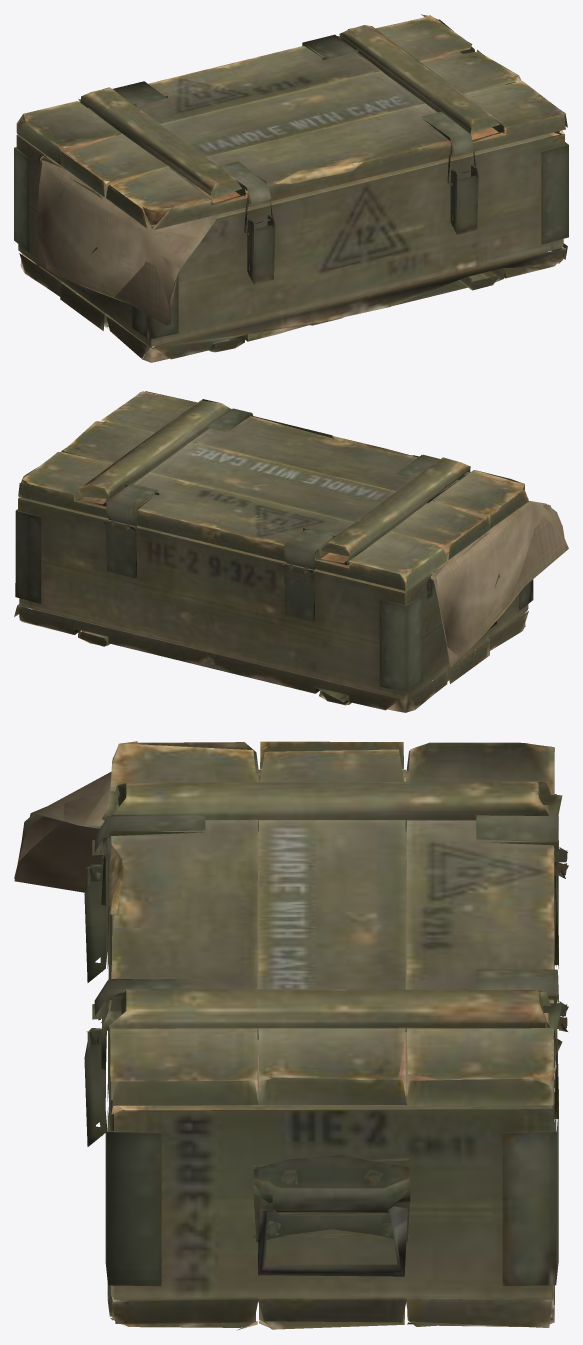
File: military_crate.glb
3 renders of one model, top to bottom at view 1: azimuth 30°, elevation 25°; view 2: azimuth 150°, elevation 25°; view 3: azimuth 270°, elevation 25°, orthographic. The views are drawn at different scales.
Parts seen in each view (by area): view 1: military_crate; view 2: military_crate; view 3: military_crate.
Boxes of the visible parts, <box> form: military_crate: <box>14,14,568,362</box>; military_crate: <box>14,391,568,712</box>; military_crate: <box>14,741,568,1330</box>.
Size of the model in its own units: 0.8139 by 0.3005 by 0.5367.
Materials: 1 (1 with a texture image).
